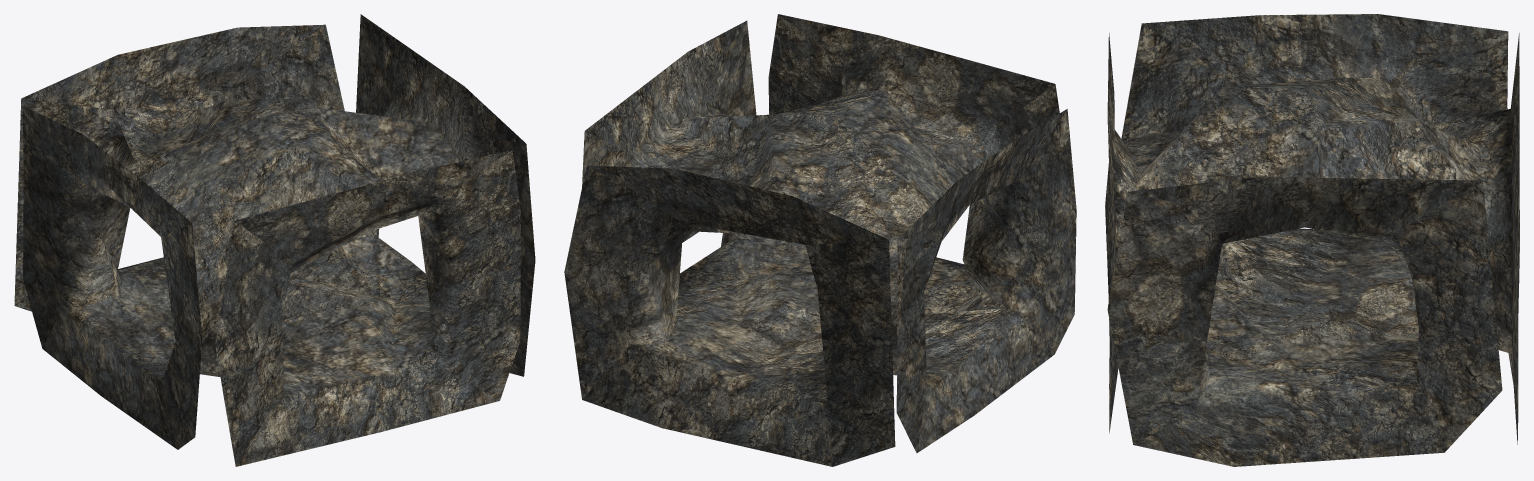
File: Module10_LOD2.fbx
The picture shows the model from 3 angles, left to right: view 1: azimuth 30°, elevation 25°; view 2: azimuth 150°, elevation 25°; view 3: azimuth 270°, elevation 25°; orthographic projection. The views are drawn at different scales.
Parts seen in each view (by area): view 1: cave_el10_800:Group44754; view 2: cave_el10_800:Group44754; view 3: cave_el10_800:Group44754.
Part boxes in pixels (x1=…): cave_el10_800:Group44754: x1=14, y1=14, x2=535, y2=466; cave_el10_800:Group44754: x1=564, y1=14, x2=1076, y2=466; cave_el10_800:Group44754: x1=1105, y1=14, x2=1519, y2=466.
Size of the model in its own units: 10.5 by 8.09 by 10.48.
